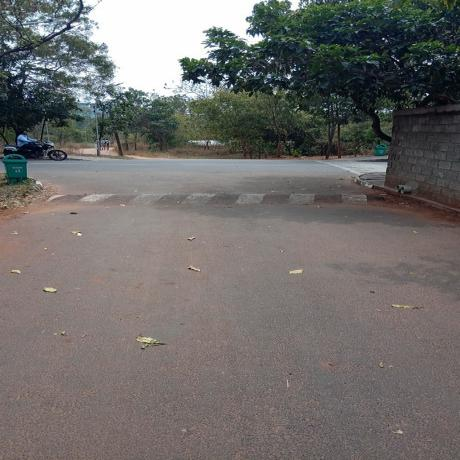Speed Bump: (27, 191, 397, 206)
